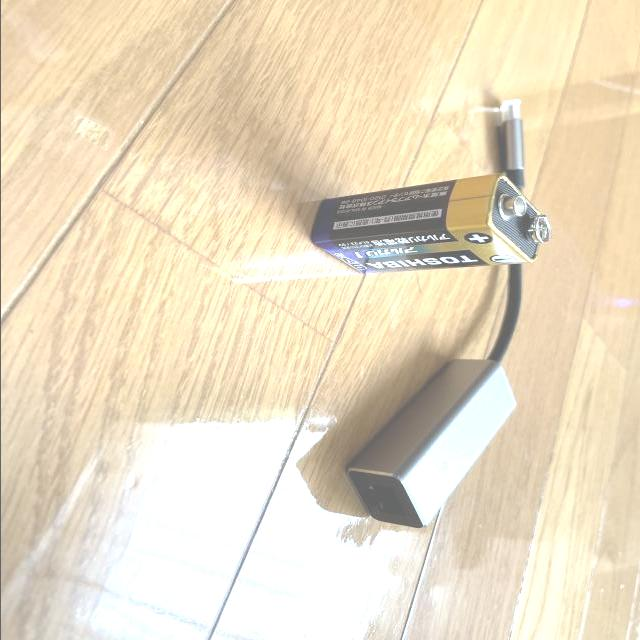9V: (310, 171, 550, 274)
